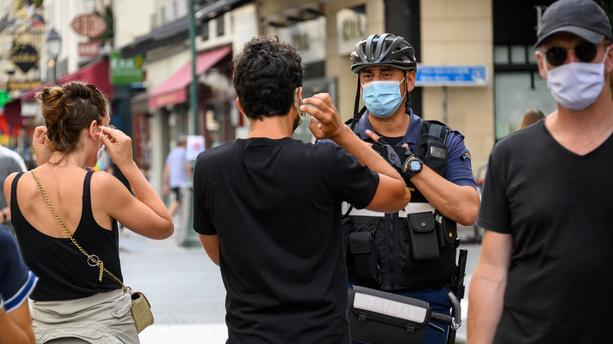with_mask: (540, 42, 609, 109), (359, 67, 406, 115)
